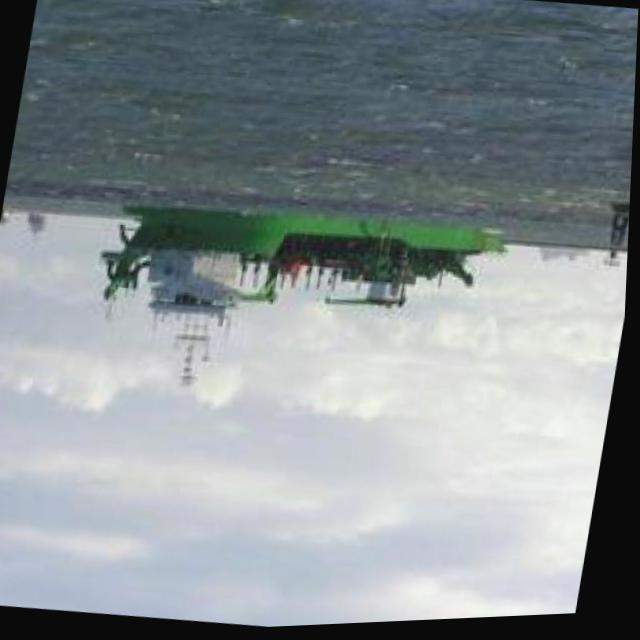ship2: (103, 208, 487, 388)
